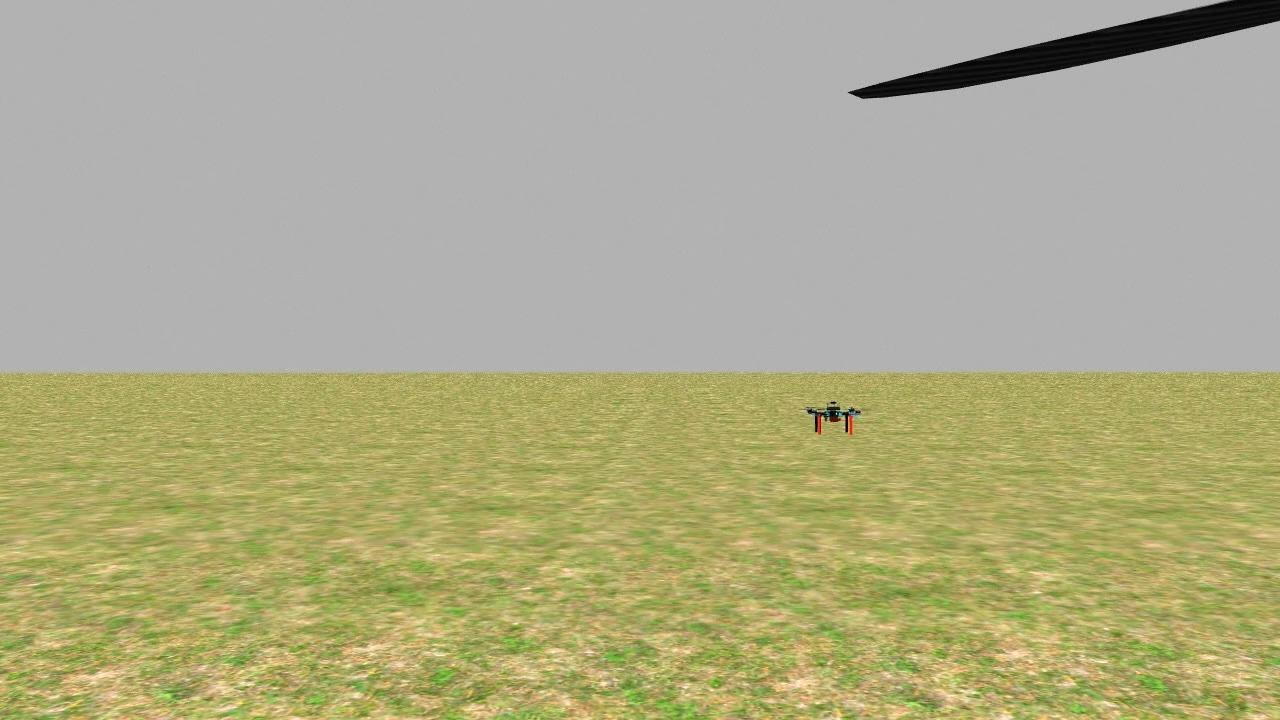UAV: (797, 377, 870, 451)
